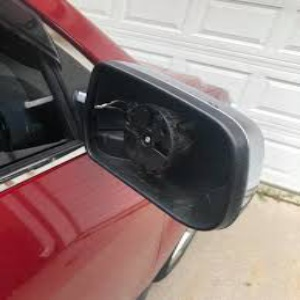side_mirror: (77, 58, 255, 234)
